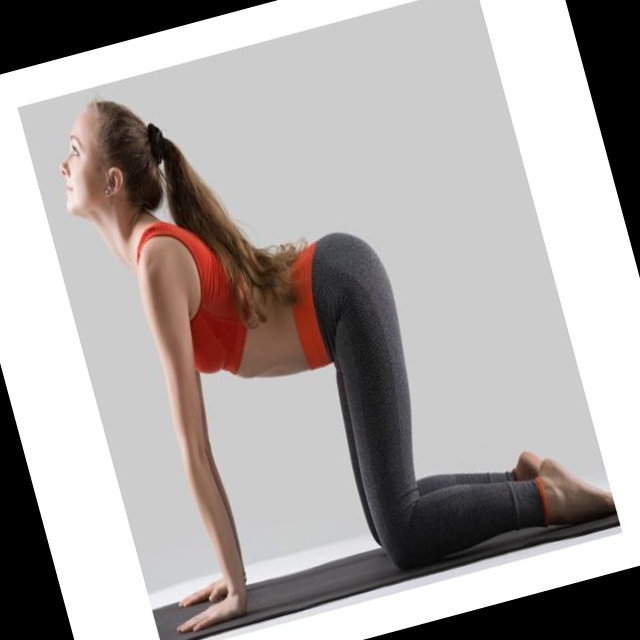Cow_Pose: (60, 102, 618, 632)
